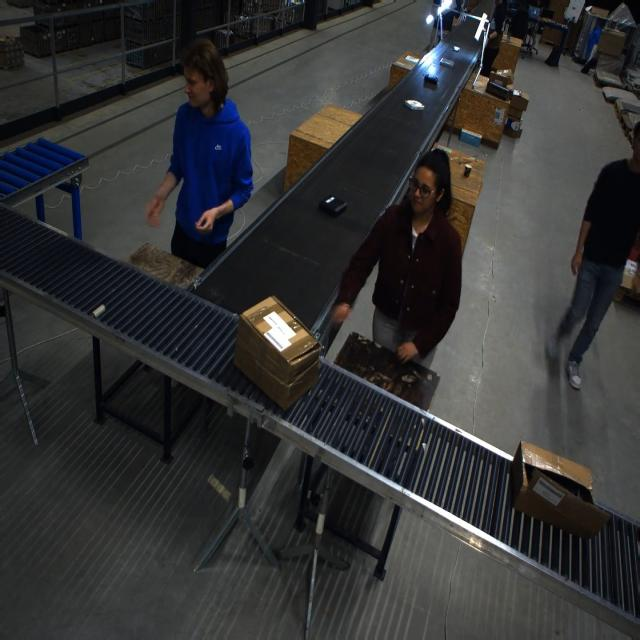box: (507, 439, 609, 539), (233, 294, 319, 411), (596, 27, 626, 56), (505, 87, 528, 119), (540, 23, 564, 46), (489, 70, 511, 87)
product: (318, 194, 347, 217), (404, 99, 424, 110), (424, 74, 438, 85), (439, 57, 454, 67), (453, 46, 460, 52)
